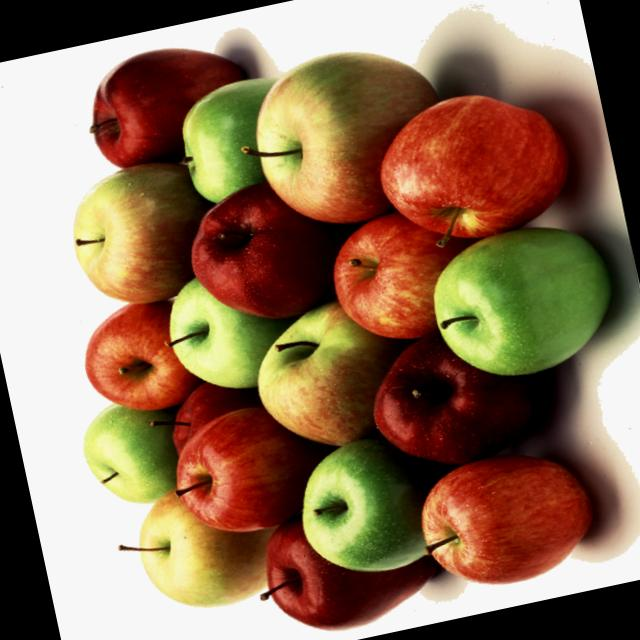apple: (234, 34, 458, 238), (368, 74, 580, 256), (417, 209, 628, 391), (406, 435, 610, 602), (64, 30, 260, 186), (172, 166, 346, 330), (42, 154, 214, 317), (160, 391, 342, 544), (322, 198, 497, 352), (242, 291, 406, 454), (287, 426, 448, 584), (72, 290, 196, 419)
